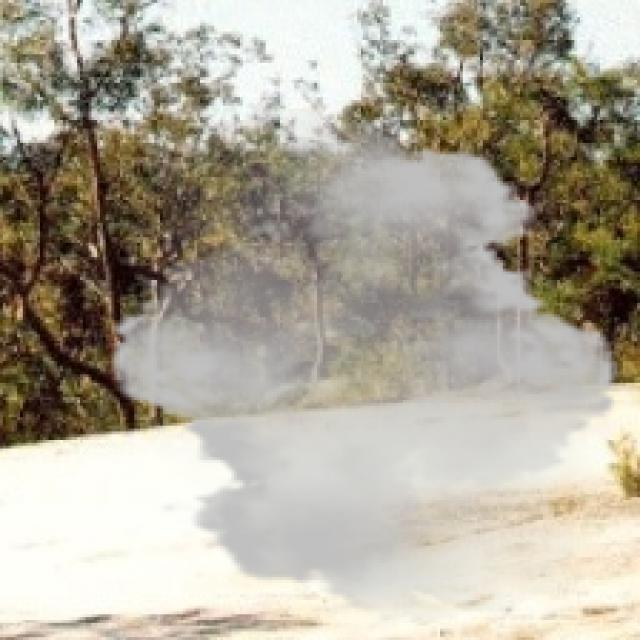Smoke: (88, 109, 638, 626)
